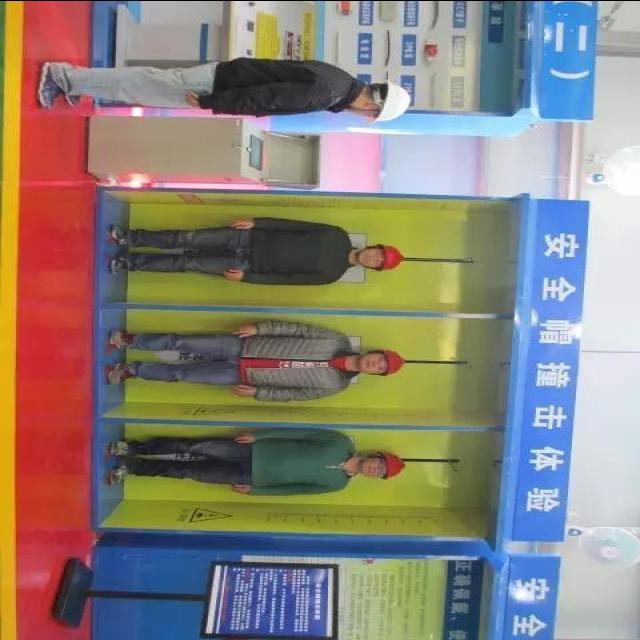helmet: (368, 71, 419, 123), (376, 444, 413, 488), (376, 342, 404, 382), (380, 242, 402, 274)
